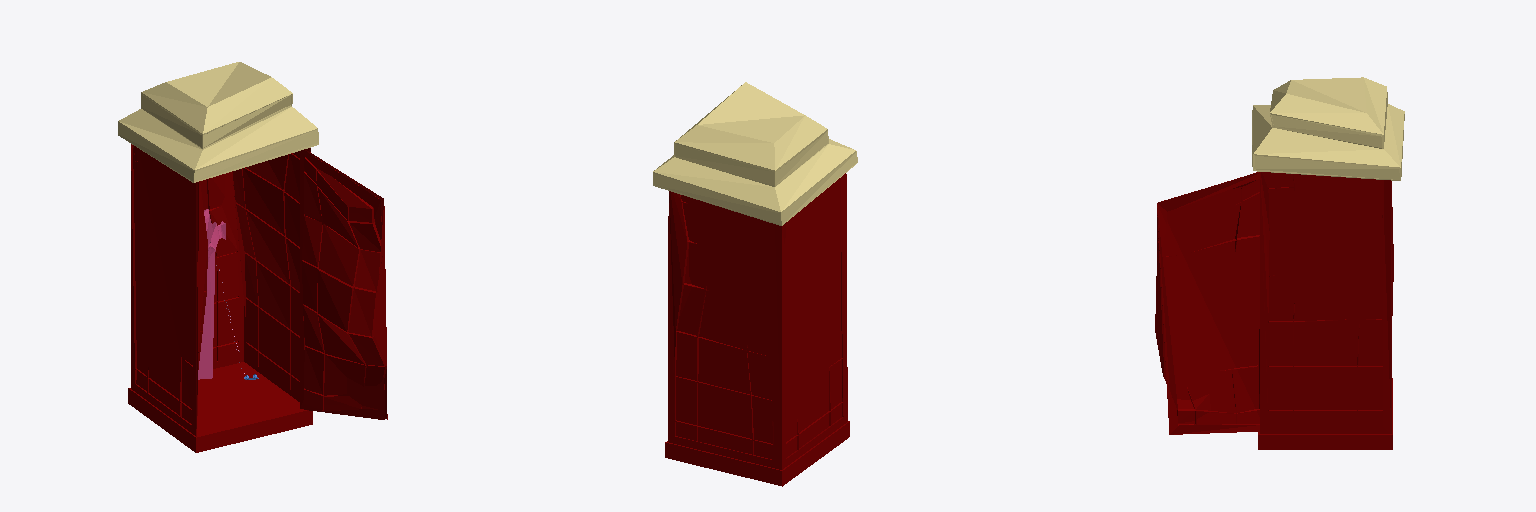
File: PhoneBooth_003.obj
3 renders of one model, left to right at view 1: azimuth 30°, elevation 25°; view 2: azimuth 150°, elevation 25°; view 3: azimuth 270°, elevation 25°, orthographic.
Parts seen in each view (by area): view 1: Box001, door, Box003, Box002; view 2: Box001, Box003; view 3: Box001, door, Box003.
Boxes of the visible parts, x1=… form: Box001: x1=128, y1=144, x2=312, y2=452; door: x1=300, y1=149, x2=387, y2=419; Box003: x1=118, y1=62, x2=318, y2=182; Box002: x1=198, y1=209, x2=225, y2=379; Box001: x1=665, y1=173, x2=849, y2=486; Box003: x1=653, y1=82, x2=857, y2=225; Box001: x1=1258, y1=172, x2=1393, y2=449; door: x1=1155, y1=172, x2=1259, y2=434; Box003: x1=1252, y1=77, x2=1404, y2=180.
Size of the model in its own units: 104 by 225 by 148.